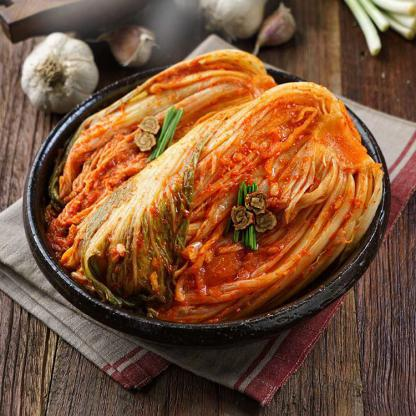kimchi: (68, 77, 390, 328), (40, 46, 282, 235)
